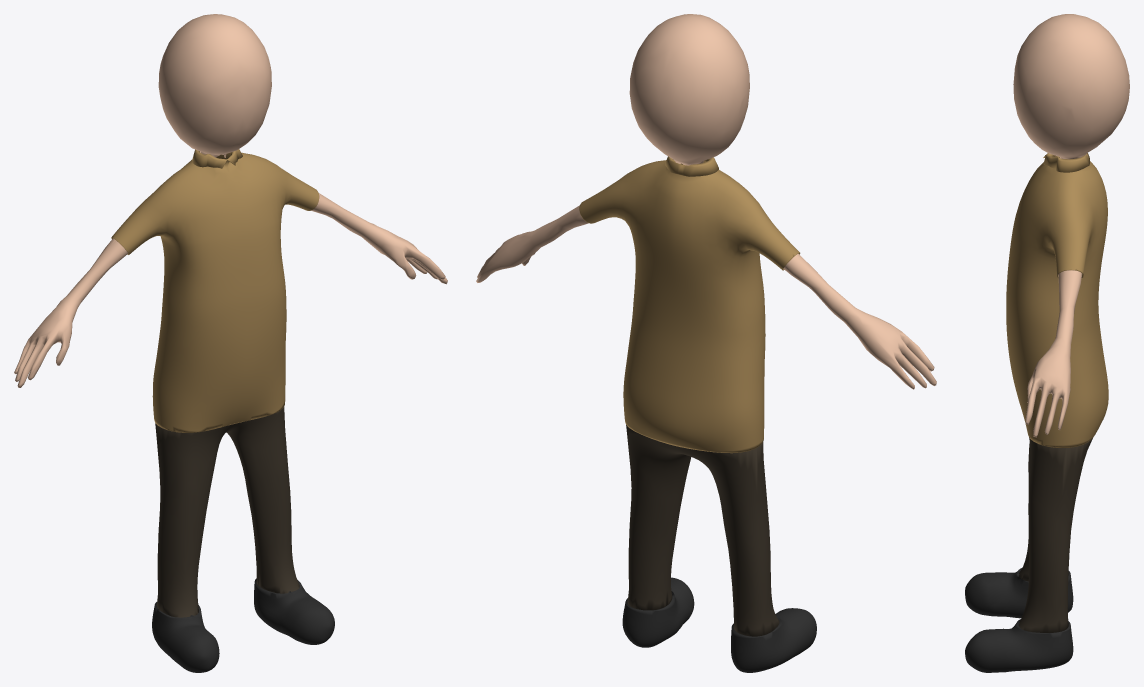
The model's file is Stickman.fbx.
3 views of the same model, side by side, from view 1: azimuth 30°, elevation 25°; view 2: azimuth 150°, elevation 25°; view 3: azimuth 270°, elevation 25° (orthographic). The views are drawn at different scales.
Parts seen in each view (by area): view 1: Player; view 2: Player; view 3: Player.
Part boxes in pixels (bbox=[...]): Player: bbox=[14, 14, 447, 672]; Player: bbox=[476, 14, 936, 672]; Player: bbox=[965, 14, 1129, 672].
Size of the model in its own units: 621 by 842 by 202.
